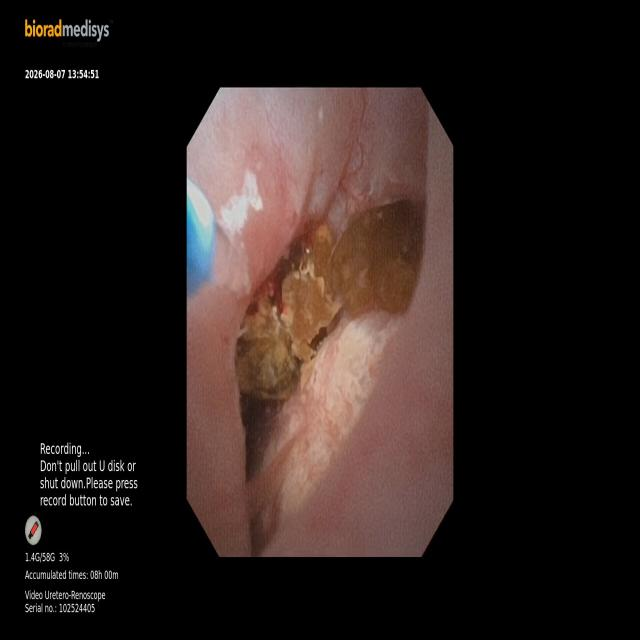laser-fibre: (213, 222, 250, 294)
stone-new: (328, 201, 423, 315), (281, 224, 341, 362), (235, 294, 301, 399)
